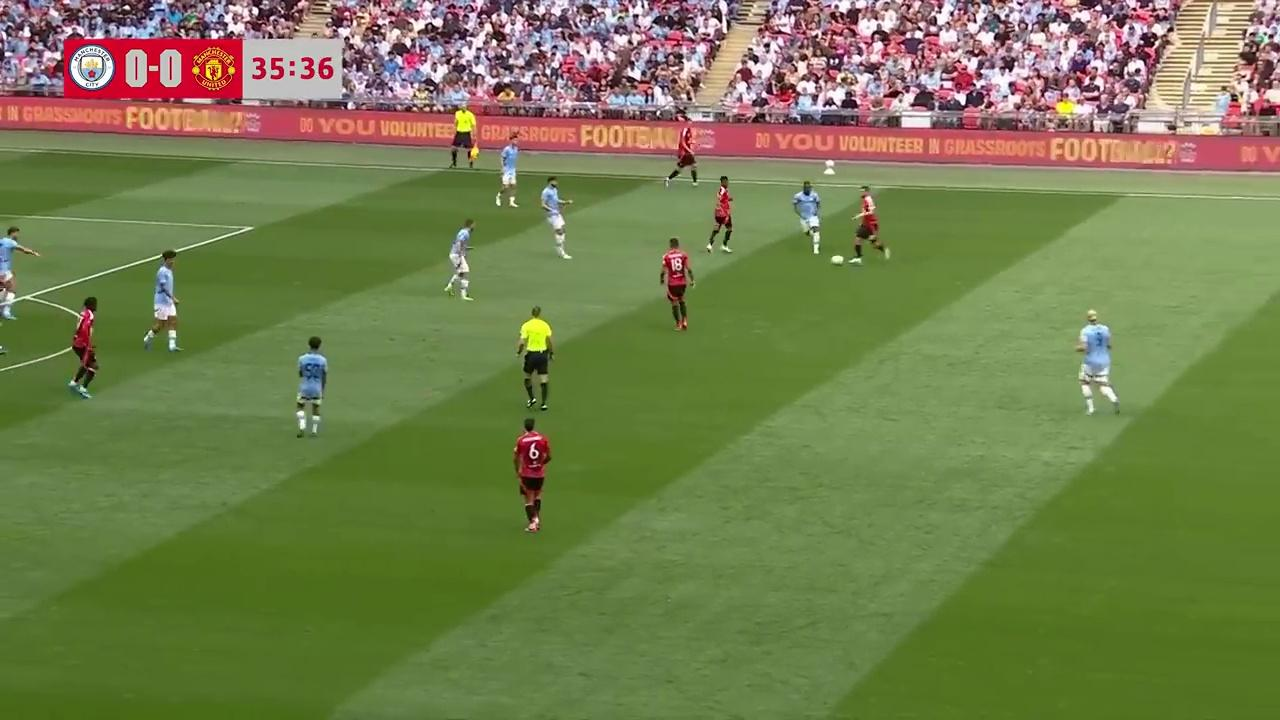ball: (830, 251, 845, 265)
player: (1073, 310, 1121, 415), (512, 418, 551, 533), (143, 251, 181, 353), (0, 227, 37, 322), (296, 336, 328, 438), (850, 186, 890, 264), (661, 237, 694, 331), (68, 296, 98, 398), (540, 176, 571, 260), (444, 218, 475, 300), (792, 181, 822, 255), (706, 176, 734, 254), (664, 127, 698, 188), (495, 142, 519, 208)
referee: (516, 306, 554, 411), (449, 112, 478, 169)
